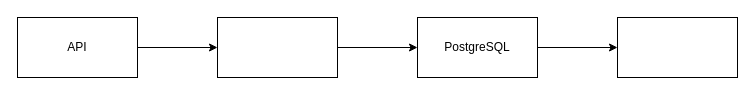
Image size: 755x95. Some labels were removed from this diagram. Here are the shapes that lost their labels. From the top down, the box of each, then its label:
(216, 16, 338, 78): Python
(616, 16, 738, 78): S3
